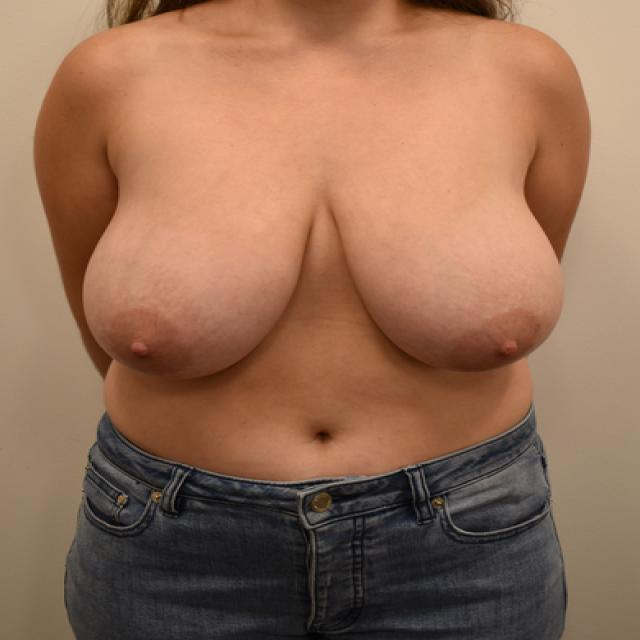Seno ileso: (74, 137, 320, 398), (323, 137, 573, 392)
